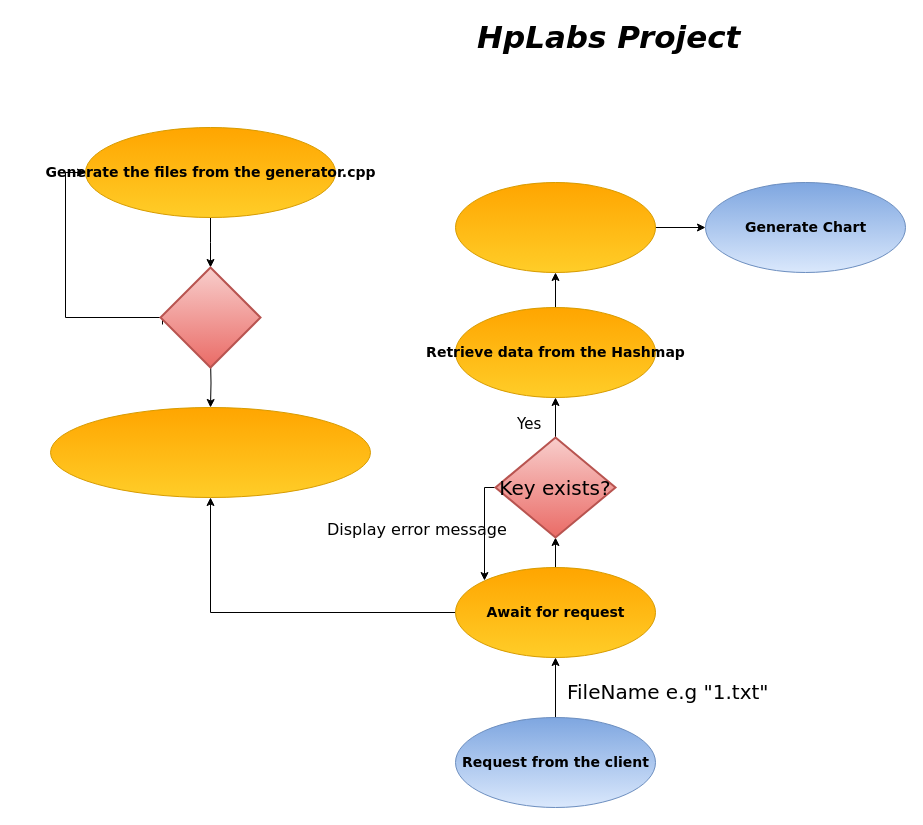
Image size: 923x825. Some labels were removed from this diagram. Here are the shapes that lost their labels. From the top down, the box of each, then its label:
(454, 182, 656, 272): Dispatch Key,Value
(159, 266, 261, 368): Error creating file?
(50, 406, 370, 498): Generate HashMap <fileName, Array[Contents]>
